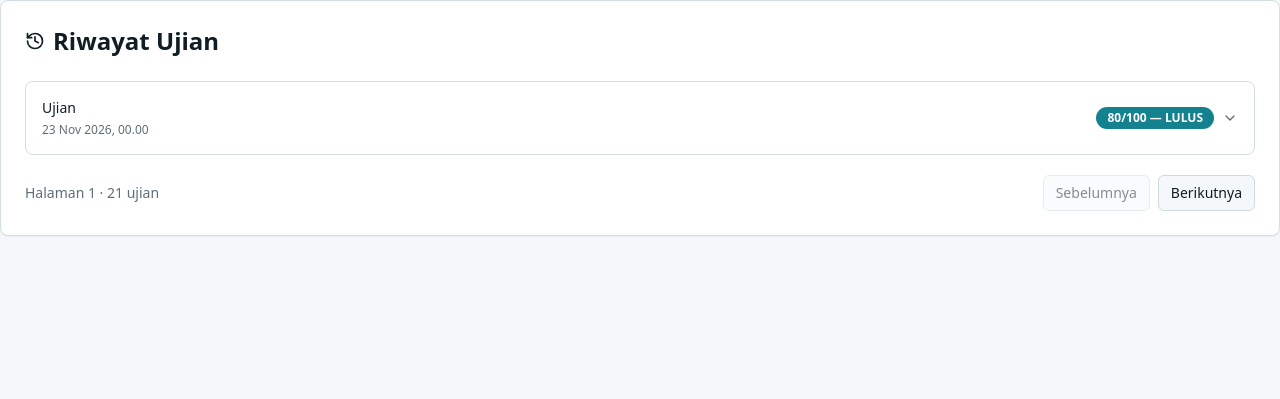
Scenario: candidate history › reads one detail only when expanded, and advances history without keeping it open
The width and height of the screenshot is (1280, 399).
Click the button "Ujian 23 Nov 2026, 00.00 80/100 — LULUS": (59, 108) [26,82,1254,154]
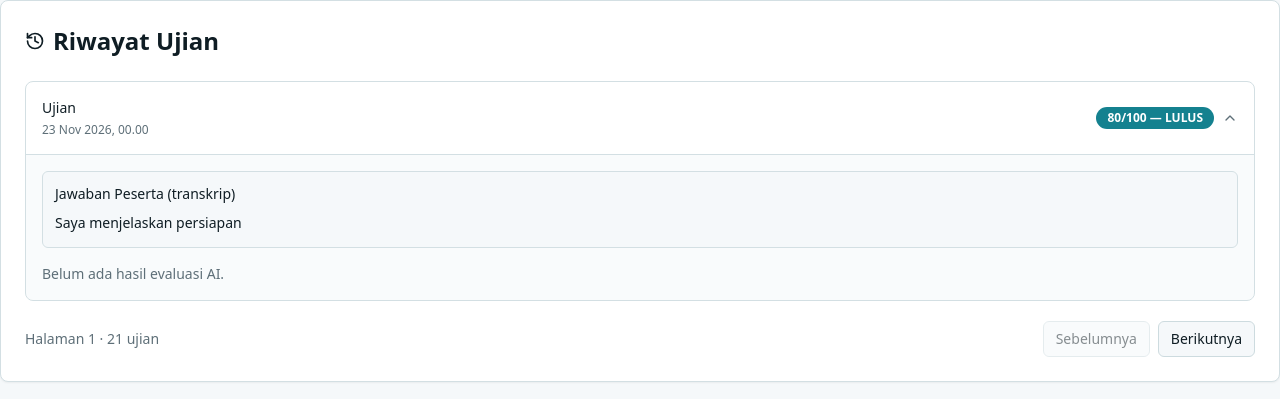
Result: the text "Saya menjelaskan persiapan" is shown at [55,213,242,232]
Click the button "Berikutnya": (1206, 339) [1158,321,1255,357]
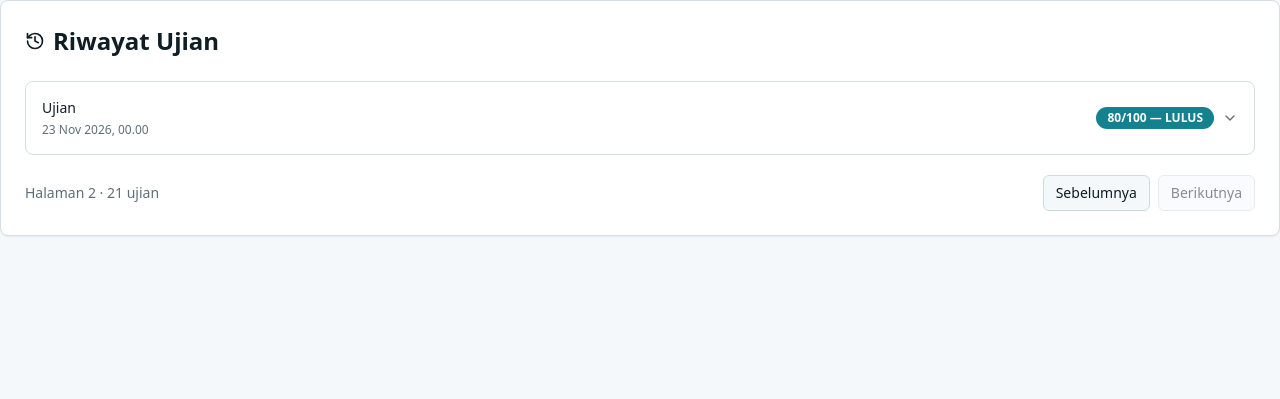
Result: the text "Saya menjelaskan persiapan" is gone
